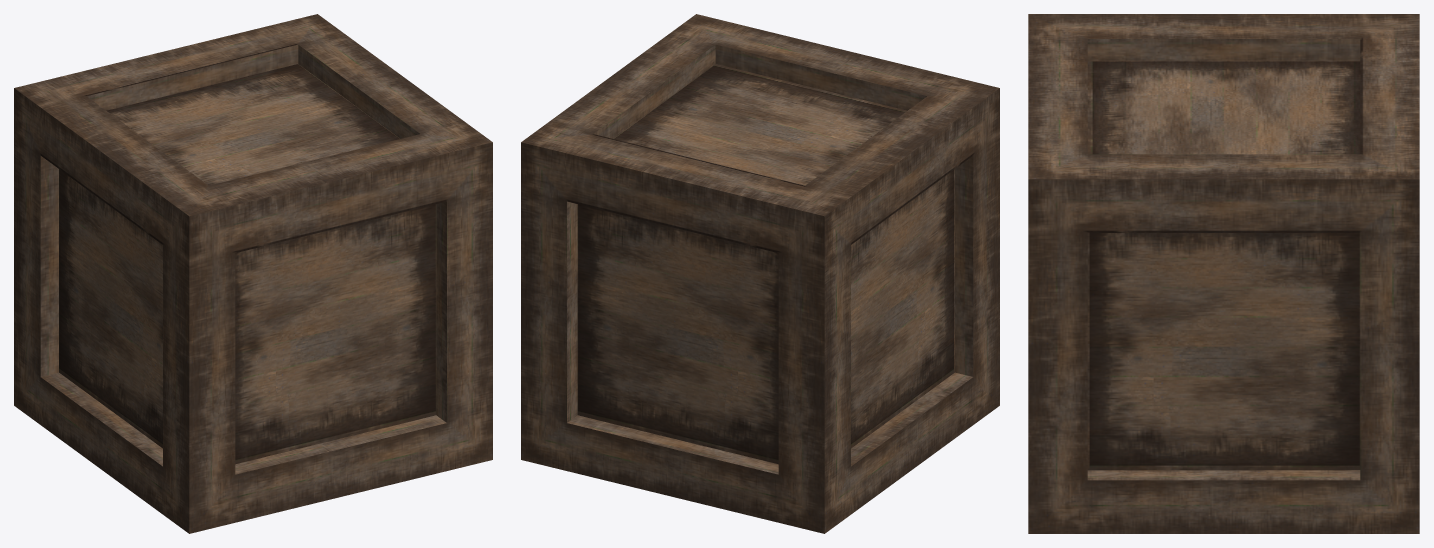
Rendered from mesh_retro_crate.obj.
The picture shows the model from 3 angles, left to right: view 1: azimuth 30°, elevation 25°; view 2: azimuth 150°, elevation 25°; view 3: azimuth 270°, elevation 25°; orthographic projection. The views are drawn at different scales.
Parts seen in each view (by area): view 1: Crate; view 2: Crate; view 3: Crate.
Part boxes in pixels (box(x1,y1,x2,y2)): Crate: box(14, 14, 492, 533); Crate: box(521, 14, 999, 533); Crate: box(1028, 14, 1419, 533).
Bounding box in the file's own units: 2 × 2 × 2.
